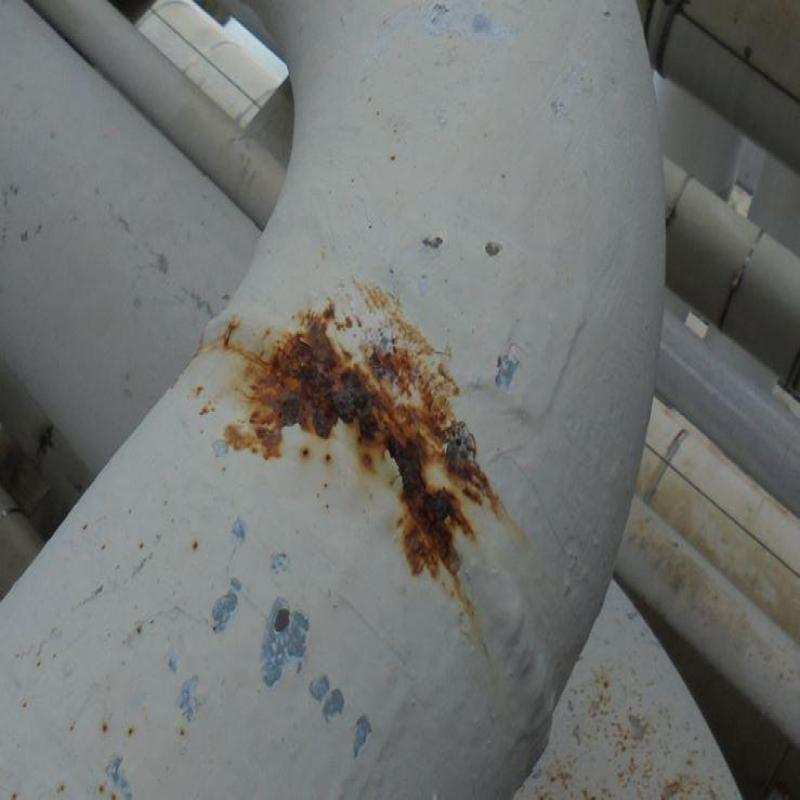corrosion: (256, 347, 423, 411), (393, 432, 462, 548)
